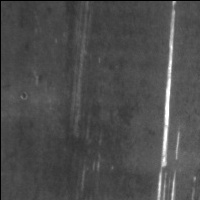scratches: (155, 1, 180, 200)
